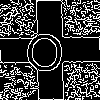O: (25, 25, 64, 72)
